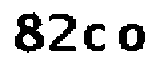2: (46, 12, 79, 55)
8: (13, 8, 45, 52)
c: (81, 21, 110, 54)
o: (118, 22, 148, 53)
